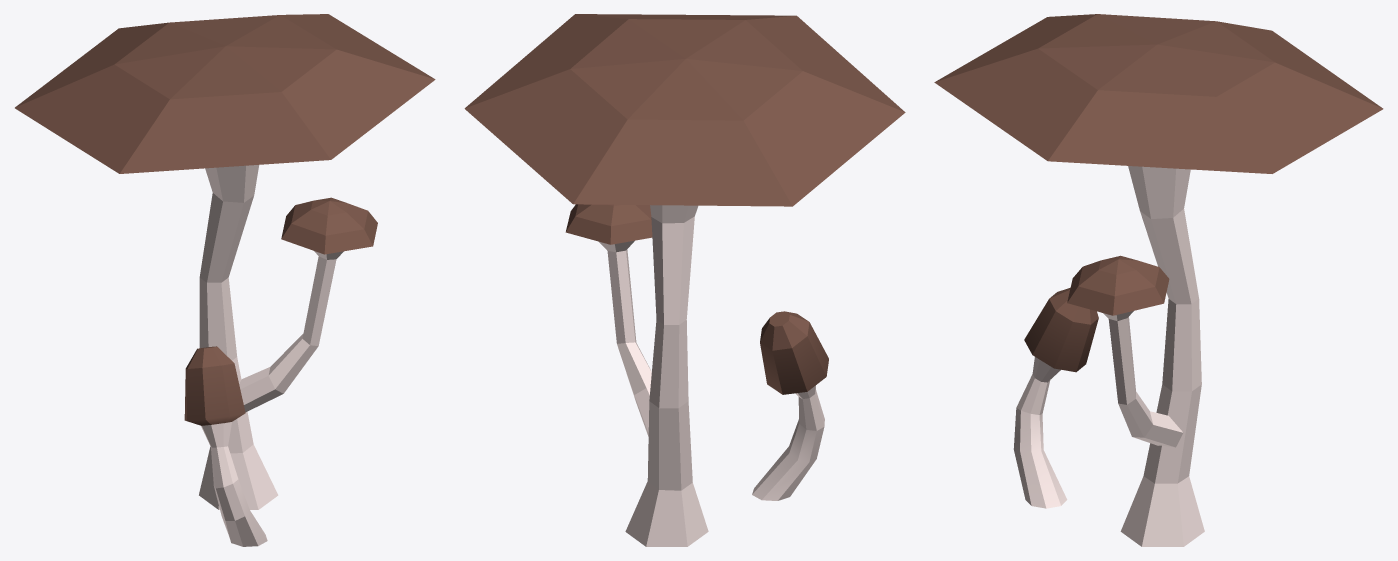
The model's file is mushroom_014.fbx.
3 views of the same model, side by side, from view 1: azimuth 30°, elevation 25°; view 2: azimuth 150°, elevation 25°; view 3: azimuth 270°, elevation 25° (orthographic). The views are drawn at different scales.
Parts seen in each view (by area): view 1: mushroom.014; view 2: mushroom.014; view 3: mushroom.014.
Part boxes in pixels (left/top/right/bottom): mushroom.014: left=15, top=14, right=435, bottom=546; mushroom.014: left=464, top=14, right=905, bottom=546; mushroom.014: left=934, top=14, right=1383, bottom=546.
Bounding box in the file's own units: 782 × 1074 × 913.
Materials: 1 (1 with a texture image).
